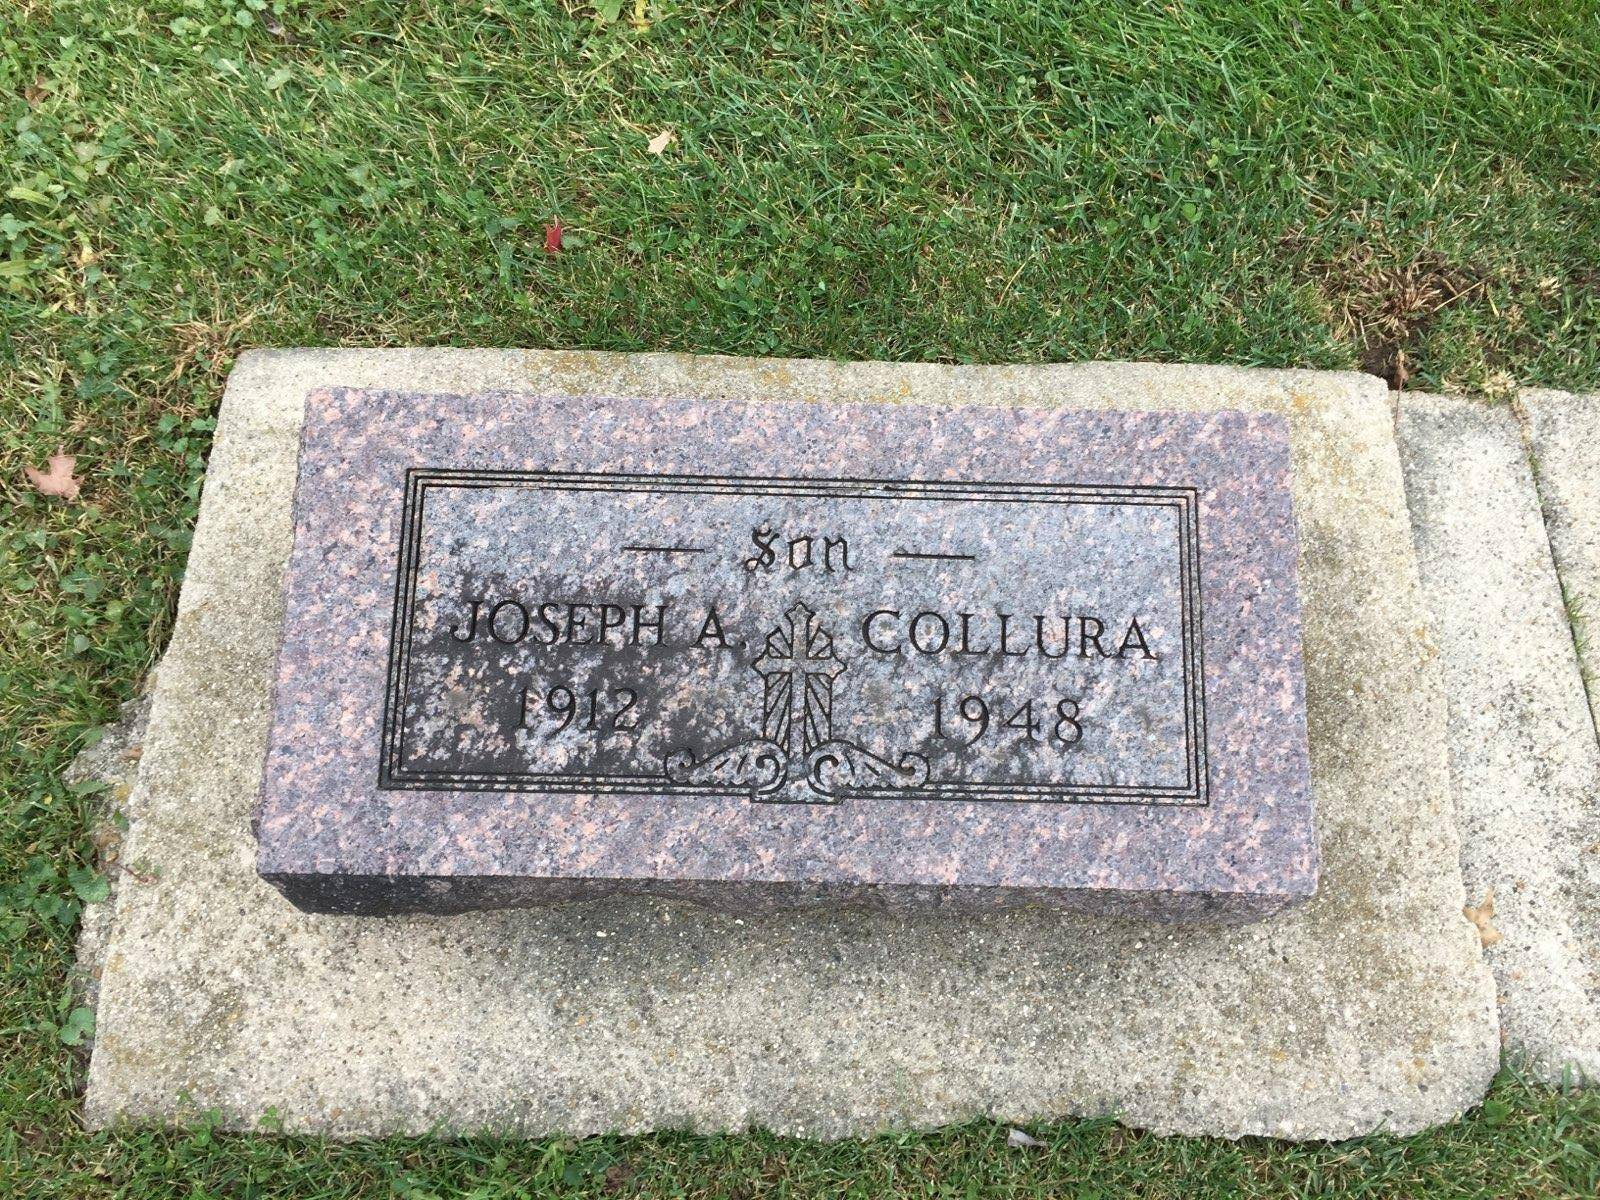flat: (54, 287, 1534, 1166)
